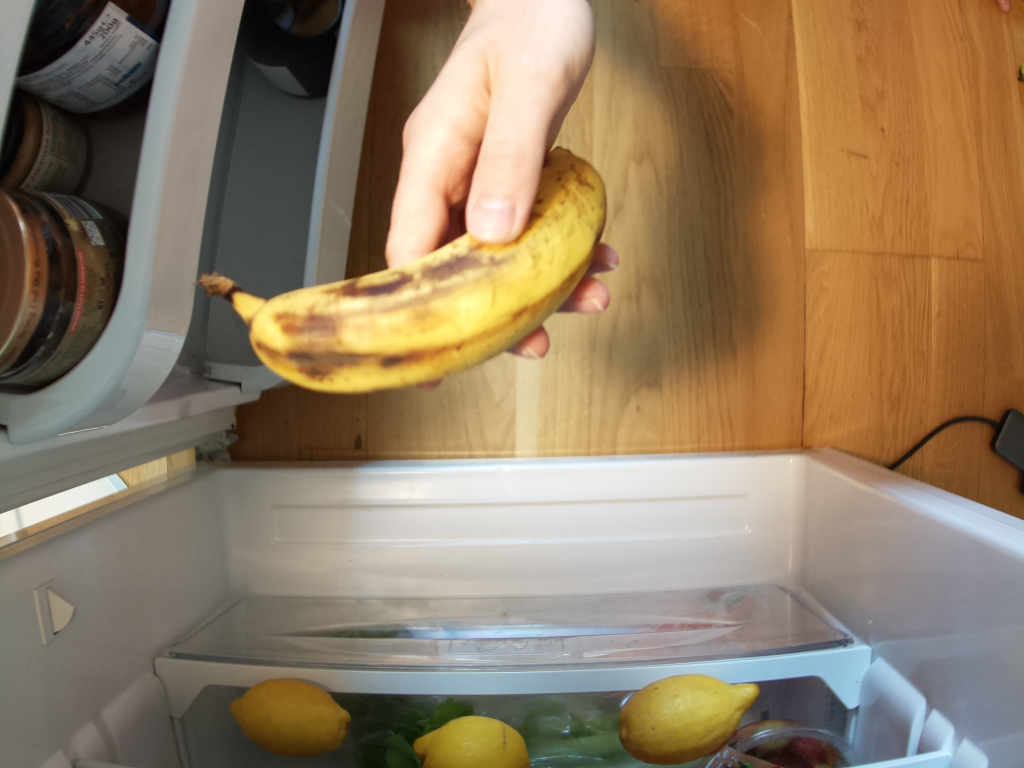banana-overripe: (198, 142, 605, 394)
